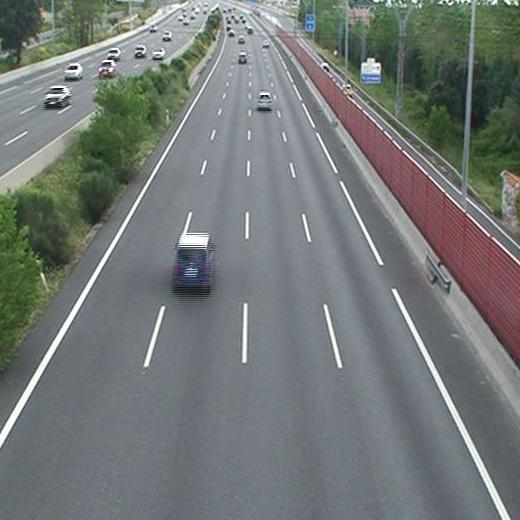car: (173, 234, 211, 288), (258, 92, 272, 109), (237, 53, 247, 63)
